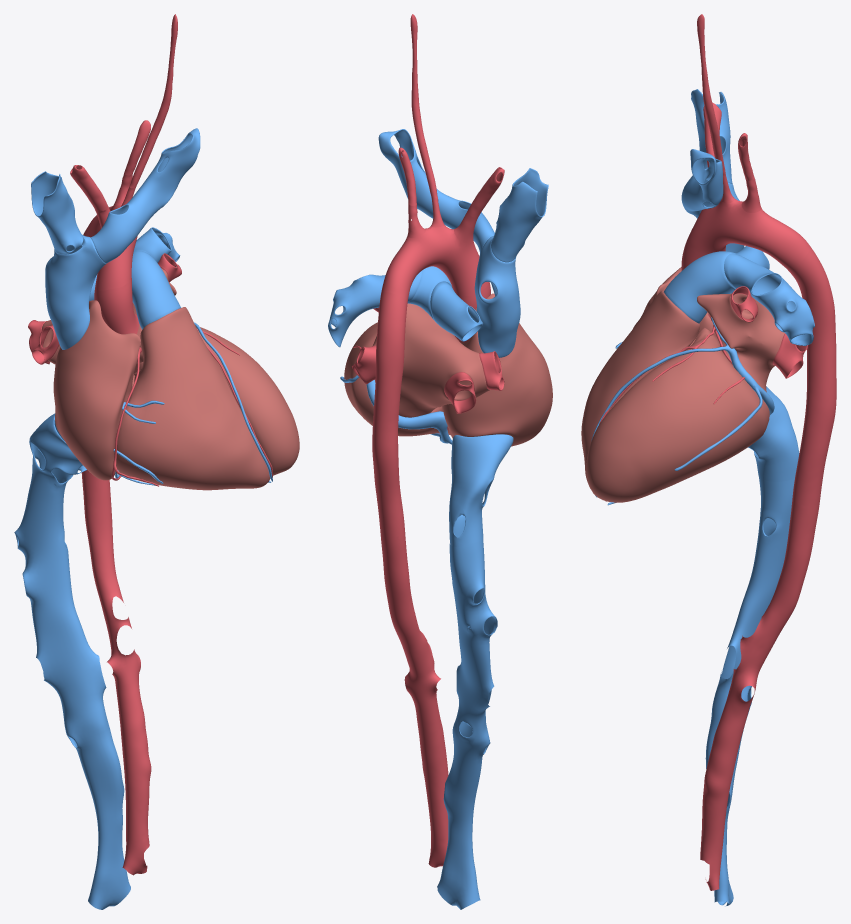
Rendered from human_heart.glb.
3 views of the same model, side by side, from view 1: azimuth 30°, elevation 25°; view 2: azimuth 150°, elevation 25°; view 3: azimuth 270°, elevation 25° (orthographic). The views are drawn at different scales.
Parts seen in each view (by area): view 1: VH_M_heart_right_ventricle, VH_M_inferior_vena_cava_b, VH_M_right_cardiac_atrium, VH_M_descending_aorta_b, VH_M_heart_left_ventricle, VH_M_brachiocephalic_vein_L, VH_M_superior_vena_cava, VH_M_inferior_vena_cava_a, VH_M_brachiocephalic_vein_R, VH_M_pulmonary_trunk, VH_M_ascending_aorta, VH_M_aortic_arch (+5 smaller); view 2: VH_M_inferior_vena_cava_b, VH_M_descending_aorta_b, VH_M_right_cardiac_atrium, VH_M_descending_aorta_a, VH_M_left_cardiac_atrium, VH_M_inferior_vena_cava_a, VH_M_aortic_arch, VH_M_superior_vena_cava, VH_M_brachiocephalic_vein_R, VH_M_brachiocephalic_vein_L, VH_M_pulmonary_artery_L, VH_M_pulmonary_artery_R (+9 smaller); view 3: VH_M_heart_left_ventricle, VH_M_descending_aorta_b, VH_M_descending_aorta_a, VH_M_inferior_vena_cava_b, VH_M_heart_right_ventricle, VH_M_aortic_arch, VH_M_left_cardiac_atrium, VH_M_pulmonary_artery_L, VH_M_inferior_vena_cava_a, VH_M_pulmonary_trunk, VH_M_brachiocephalic_vein_L, VH_M_brachiocephalic_vein_R (+5 smaller).
Part boxes in pixels (left/top/right/bottom): VH_M_heart_right_ventricle: left=114, top=307, right=270, bottom=490; VH_M_inferior_vena_cava_b: left=14, top=491, right=130, bottom=909; VH_M_right_cardiac_atrium: left=53, top=300, right=140, bottom=480; VH_M_descending_aorta_b: left=81, top=471, right=151, bottom=875; VH_M_heart_left_ventricle: left=134, top=327, right=299, bottom=475; VH_M_brachiocephalic_vein_L: left=91, top=128, right=200, bottom=263; VH_M_superior_vena_cava: left=45, top=235, right=106, bottom=349; VH_M_inferior_vena_cava_a: left=29, top=413, right=86, bottom=504; VH_M_brachiocephalic_vein_R: left=31, top=171, right=83, bottom=254; VH_M_pulmonary_trunk: left=131, top=250, right=180, bottom=329; VH_M_ascending_aorta: left=94, top=280, right=139, bottom=334; VH_M_aortic_arch: left=87, top=202, right=137, bottom=290; VH_M_inferior_vena_cava_b: left=437, top=539, right=497, bottom=909; VH_M_descending_aorta_b: left=380, top=533, right=448, bottom=867; VH_M_right_cardiac_atrium: left=442, top=293, right=552, bottom=446; VH_M_descending_aorta_a: left=372, top=291, right=407, bottom=539; VH_M_left_cardiac_atrium: left=372, top=303, right=489, bottom=417; VH_M_inferior_vena_cava_a: left=449, top=434, right=513, bottom=546; VH_M_aortic_arch: left=381, top=225, right=488, bottom=301; VH_M_superior_vena_cava: left=474, top=236, right=520, bottom=357; VH_M_brachiocephalic_vein_R: left=491, top=168, right=548, bottom=262; VH_M_brachiocephalic_vein_L: left=378, top=129, right=494, bottom=253; VH_M_pulmonary_artery_L: left=328, top=271, right=421, bottom=347; VH_M_pulmonary_artery_R: left=430, top=281, right=483, bottom=341; VH_M_heart_left_ventricle: left=586, top=327, right=769, bottom=502; VH_M_descending_aorta_b: left=700, top=502, right=819, bottom=890; VH_M_descending_aorta_a: left=789, top=247, right=836, bottom=508; VH_M_inferior_vena_cava_b: left=705, top=477, right=794, bottom=906; VH_M_heart_right_ventricle: left=581, top=290, right=699, bottom=488; VH_M_aortic_arch: left=685, top=199, right=810, bottom=271; VH_M_left_cardiac_atrium: left=697, top=293, right=784, bottom=392; VH_M_pulmonary_artery_L: left=724, top=253, right=814, bottom=345; VH_M_inferior_vena_cava_a: left=748, top=386, right=799, bottom=481; VH_M_pulmonary_trunk: left=664, top=251, right=742, bottom=323; VH_M_brachiocephalic_vein_L: left=681, top=149, right=723, bottom=216; VH_M_brachiocephalic_vein_R: left=691, top=89, right=732, bottom=184.
Size of the model in its own units: 0.1319 by 0.5142 by 0.1288.
